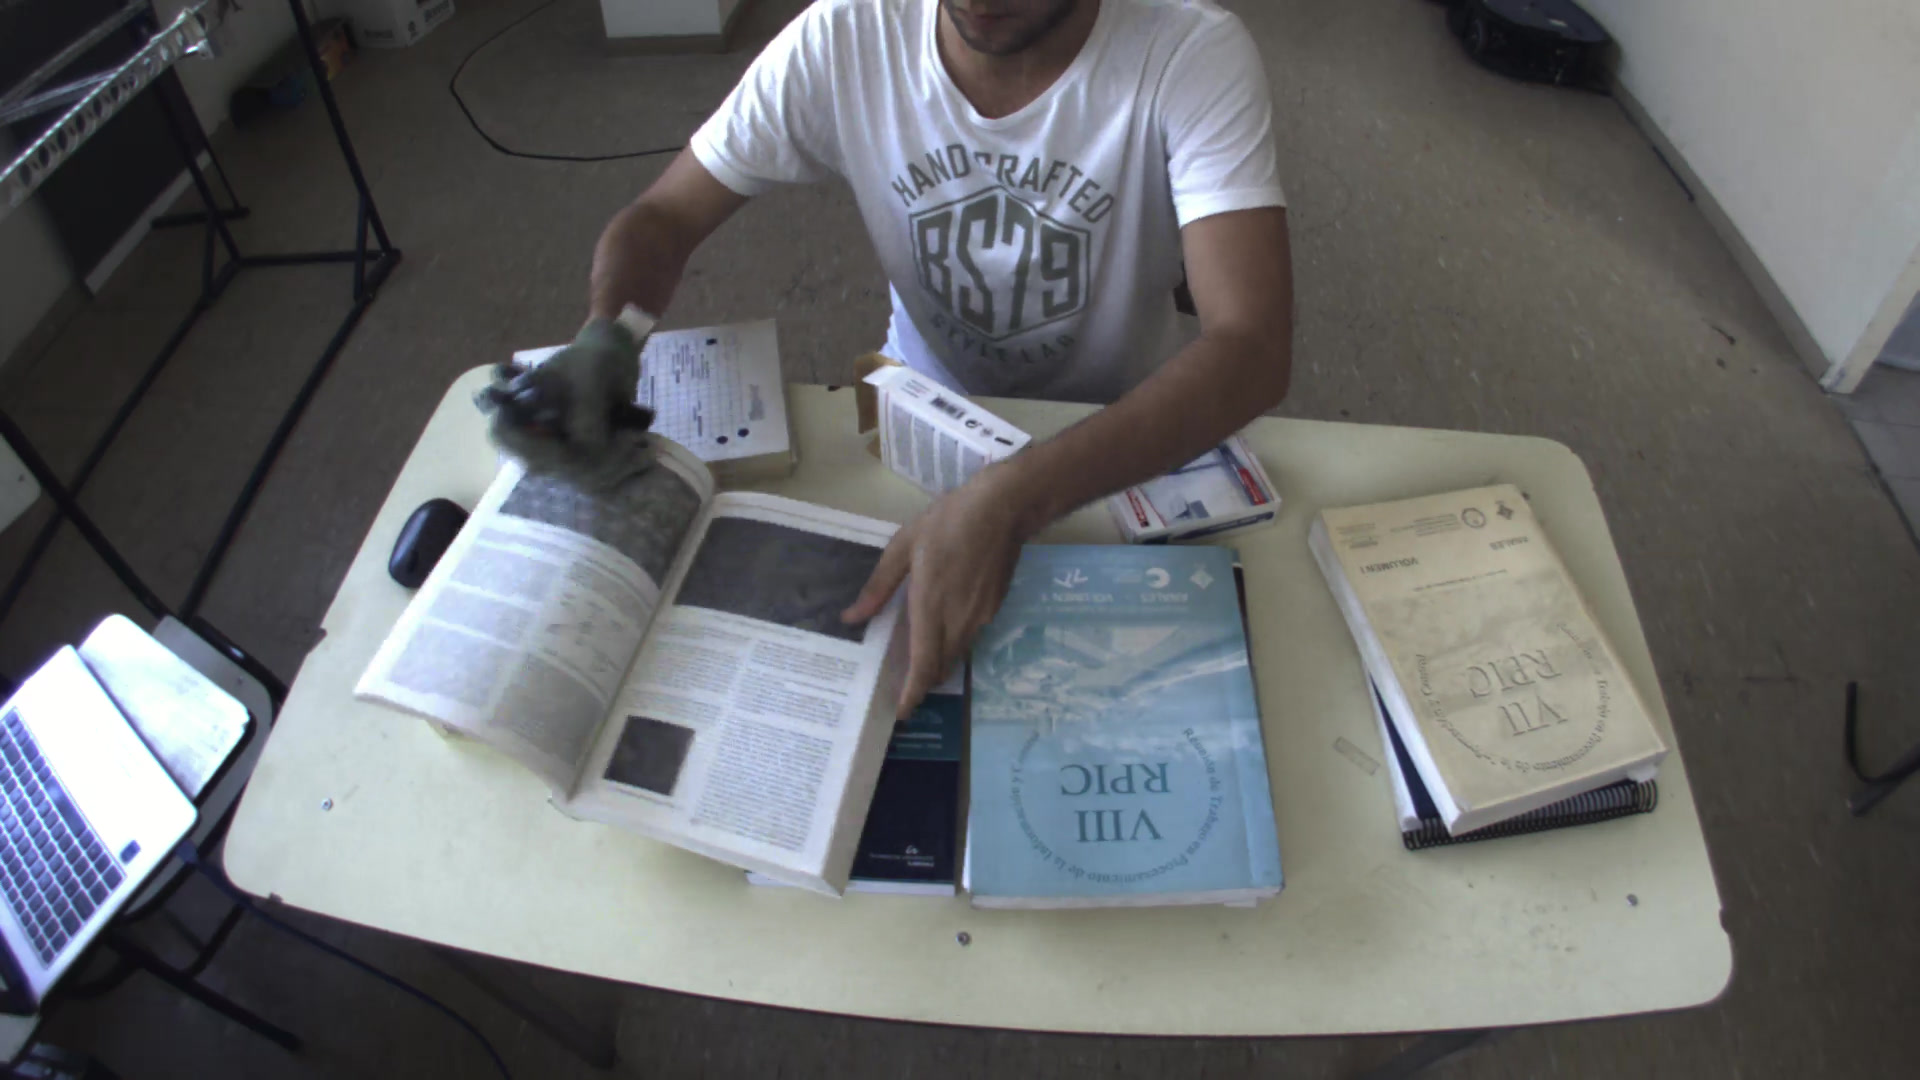hand: (833, 485, 1019, 719), (479, 307, 644, 465)
